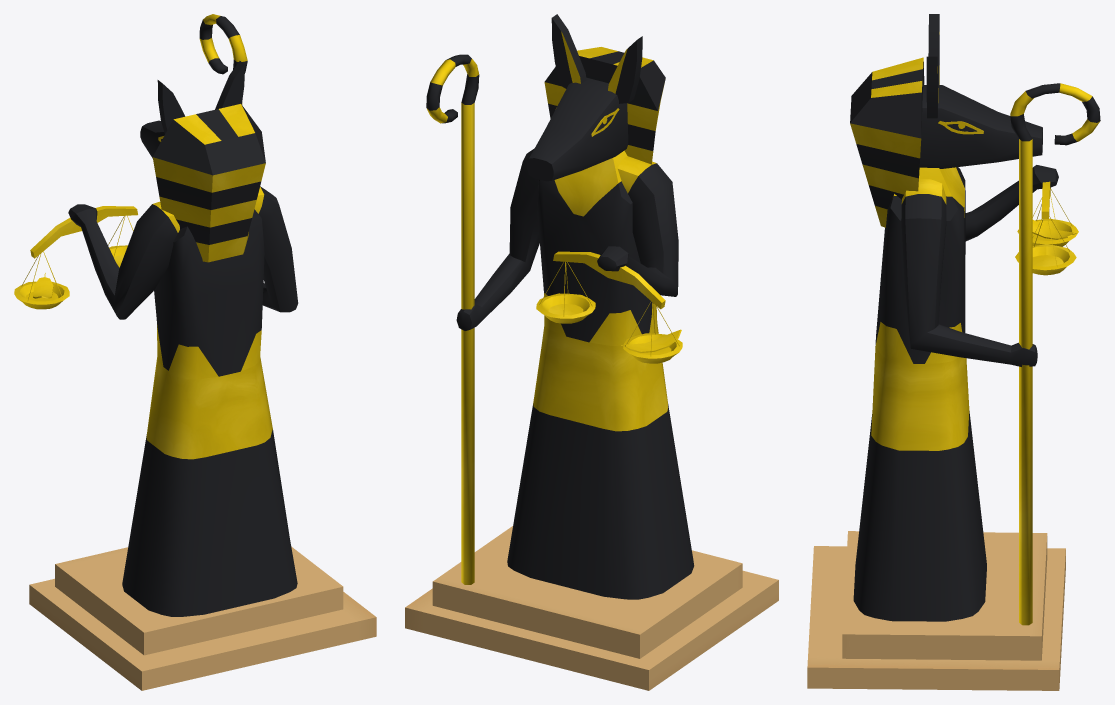
The model's file is than ho ve.fbx.
3 views of the same model, side by side, from view 1: azimuth 30°, elevation 25°; view 2: azimuth 150°, elevation 25°; view 3: azimuth 270°, elevation 25° (orthographic). The views are drawn at different scales.
Visible parts, largest first — view 1: SM_Statue; view 2: SM_Statue; view 3: SM_Statue.
Boxes of the visible parts, x1,y1,x2,y2 form: SM_Statue: (14,14,376,690); SM_Statue: (405,14,778,690); SM_Statue: (807,14,1100,690).
Size of the model in its own units: 472 by 504 by 1051.
Materials: 2 (2 with a texture image).
